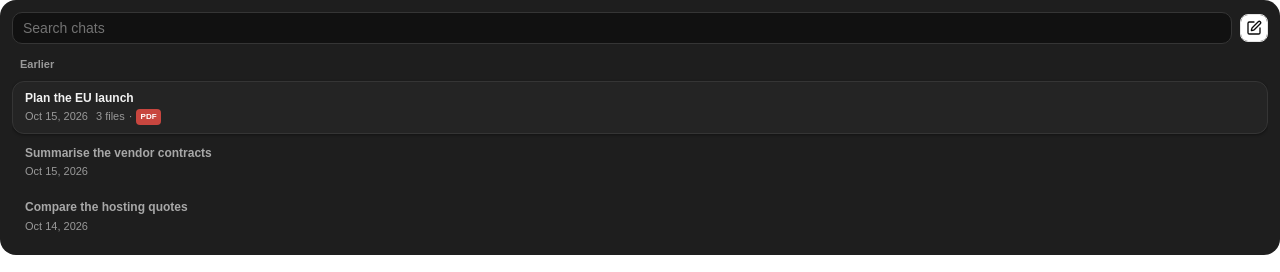
Scenario: ChatsList › searches by title
In the search field labelled "Search chats": (622,28) [12,12,1232,44], type "nothing like this"
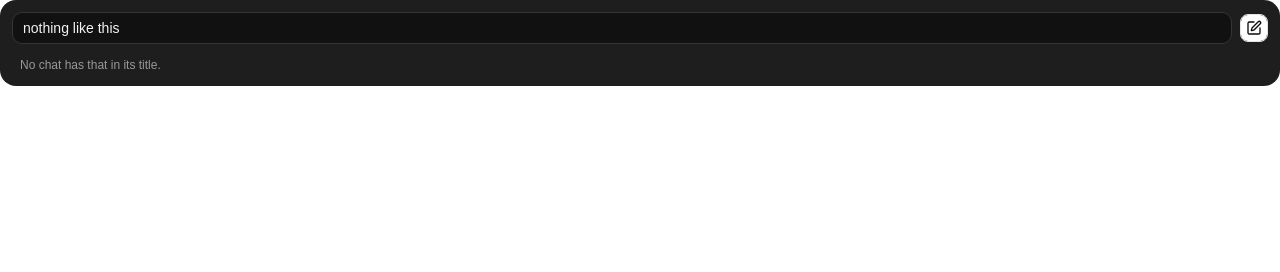
expect the text "No chat has that in its title." is shown: met, box [20,58,161,72]
